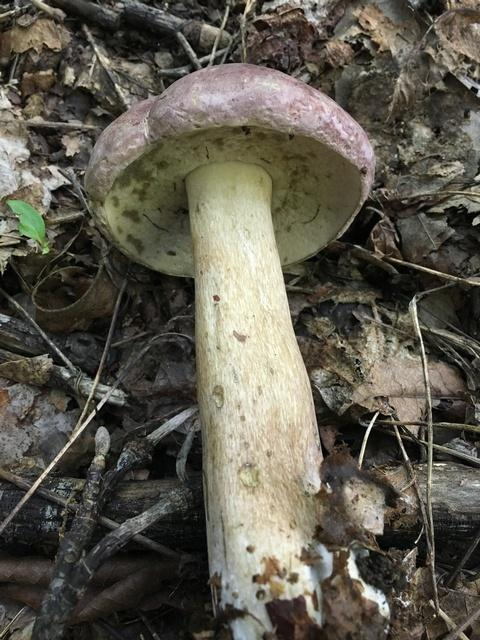poisonous_mushroom: (82, 61, 378, 638)
